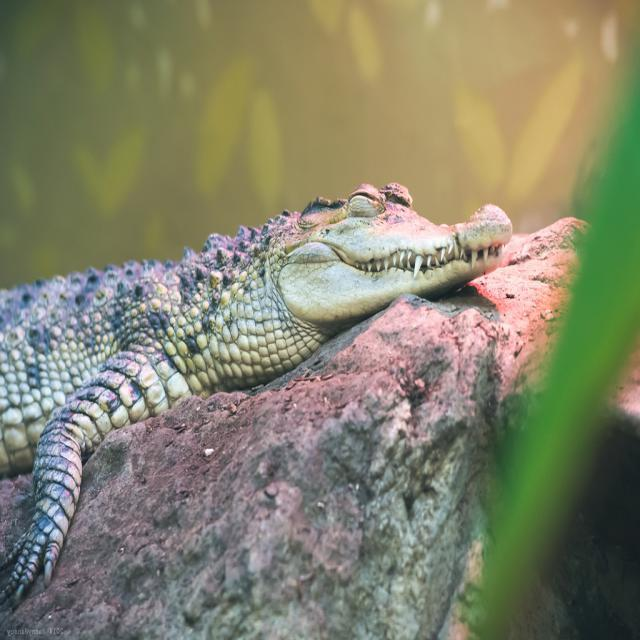crocodile: (0, 179, 520, 600)
